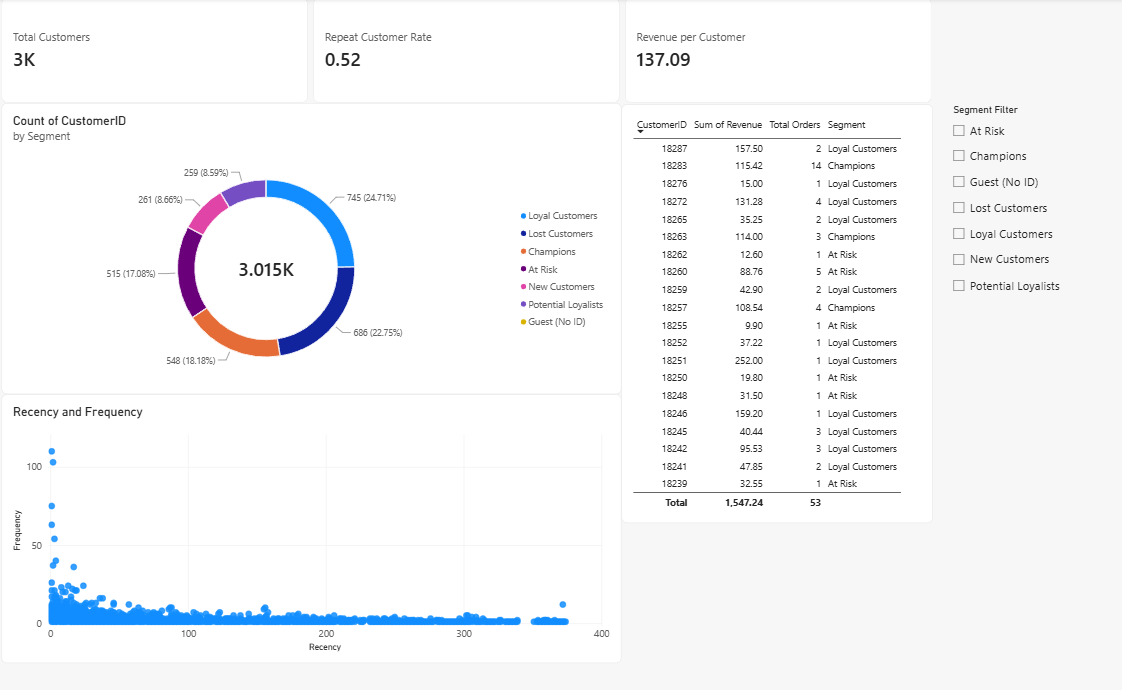

The dashboard page shown, as its layout file describes it:
{"tool":"powerbi","page":{"name":"Customer Intelligence","canvas":[1920,1080],"ordinal":2},"visuals":[{"type":"donutChart","fields":{"Category":["dim_rfm.Segment"],"Y":["CountNonNull(dim_rfm.CustomerID)"]},"box":[10.4,154.2,912.5,429.2],"z":0},{"type":"tableEx","fields":{"Values":["retail_clean.CustomerID","Sum(retail_clean.Revenue)","retail_clean.Total Orders","dim_rfm.Segment"]},"box":[923.7,155.9,458.3,616.7],"z":1000},{"type":"scatterChart","fields":{"X":["dim_rfm.Recency"],"Y":["dim_rfm.Frequency"]},"box":[10.4,583.3,912.5,395.8],"z":2000},{"type":"slicer","fields":{"Values":["dim_rfm.Segment"]},"box":[1405.1,155.9,200,312.5],"z":3000},{"type":"cardVisual","fields":{"Data":["retail_clean.Total Customers","retail_clean.Repeat Customer Rate","retail_clean.Revenue per Customer"]},"box":[10.2,0,1370.8,154.2],"z":4000}]}

Visuals, with their boxes on the page's 1920x1080 design canvas (x1, y1, x2, y2). These are canvas units, not pixel positions in the 1122x690 screenshot, which may show the page scaled, cropped or inside an application window:
donutChart - dim_rfm.Segment x CountNonNull(dim_rfm.CustomerID): l=10, t=154, r=923, b=583
tableEx - retail_clean.CustomerID x Sum(retail_clean.Revenue): l=924, t=156, r=1382, b=773
scatterChart - dim_rfm.Recency x dim_rfm.Frequency: l=10, t=583, r=923, b=979
slicer - dim_rfm.Segment: l=1405, t=156, r=1605, b=468
cardVisual - retail_clean.Total Customers x retail_clean.Repeat Customer Rate: l=10, t=0, r=1381, b=154
